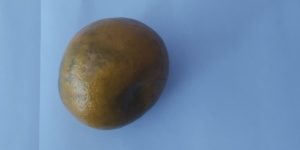BAD: (57, 18, 170, 128)
